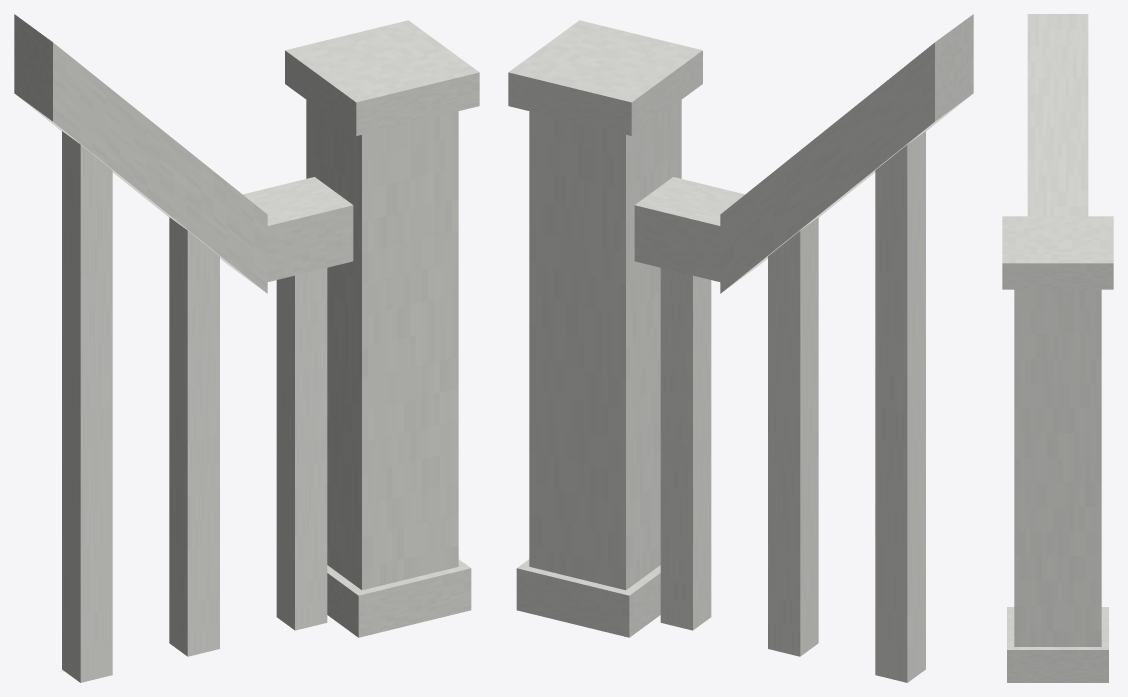
Rendered from foot_neg.obj.
3 views of the same model, side by side, from view 1: azimuth 30°, elevation 25°; view 2: azimuth 150°, elevation 25°; view 3: azimuth 270°, elevation 25° (orthographic). The views are drawn at different scales.
Visible parts, largest first — view 1: railing_baluster_white_foot_neg; view 2: railing_baluster_white_foot_neg; view 3: railing_baluster_white_foot_neg.
Boxes of the visible parts, <box> form: railing_baluster_white_foot_neg: <box>14,14,479,682</box>; railing_baluster_white_foot_neg: <box>508,14,973,682</box>; railing_baluster_white_foot_neg: <box>1002,14,1113,682</box>.
Bounding box in the file's own units: 0.9563 × 1.46 × 0.2875.
